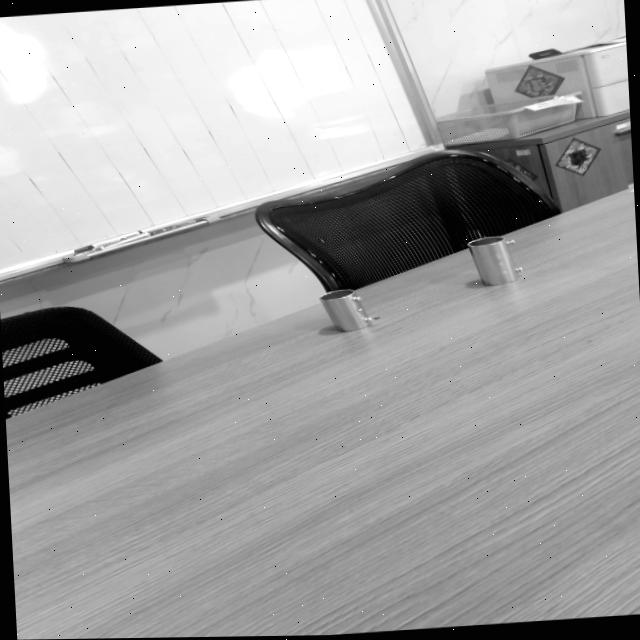Co_Lon: (466, 229, 524, 290)
Co_Nho: (316, 278, 376, 341)
